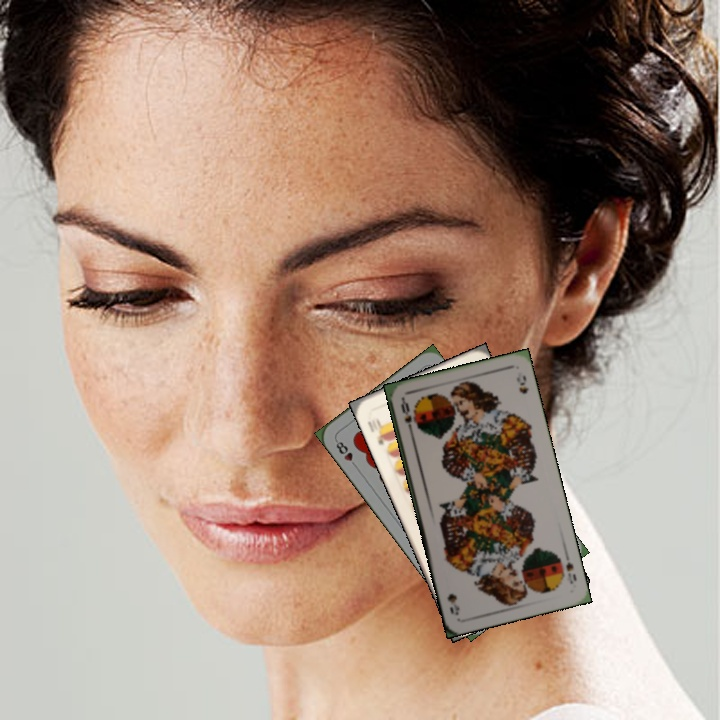E10: (363, 414, 391, 448)
H8: (331, 436, 360, 471)
SO: (397, 395, 415, 436), (561, 549, 579, 587)
